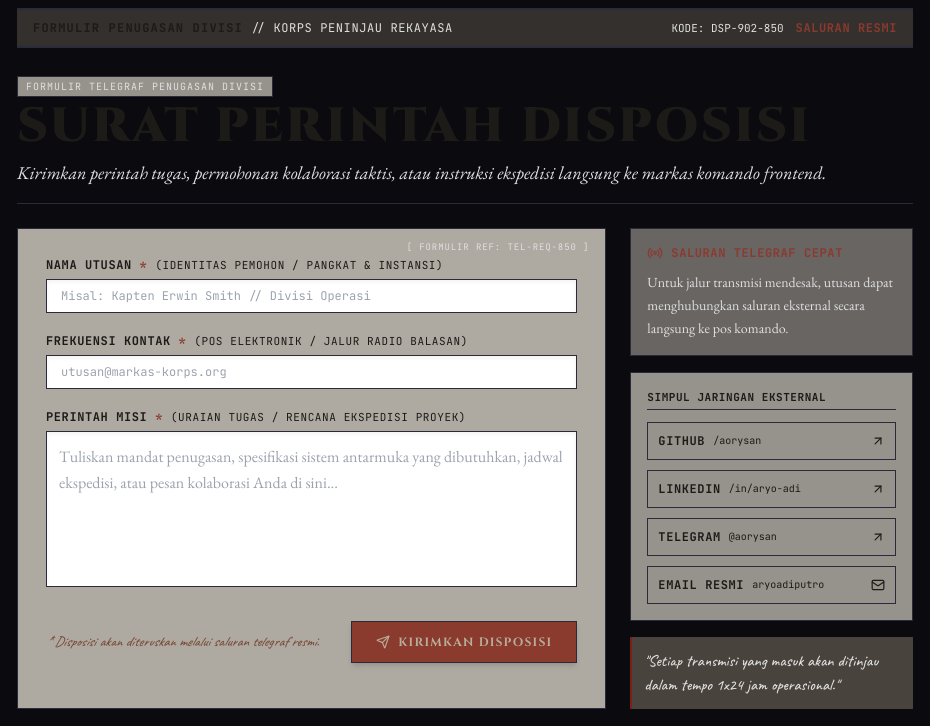
Test: Dossier Kronik & Kontak › DossierKontak (Requisition Dispatch Sheet) › handles reduced motion preferences on form submission
In the field labelled "Nama Utusan * (Identitas Pemohon / Pangkat & Instansi)": coordinates (312, 296) [46, 279, 577, 313], type "Komandan Hange"
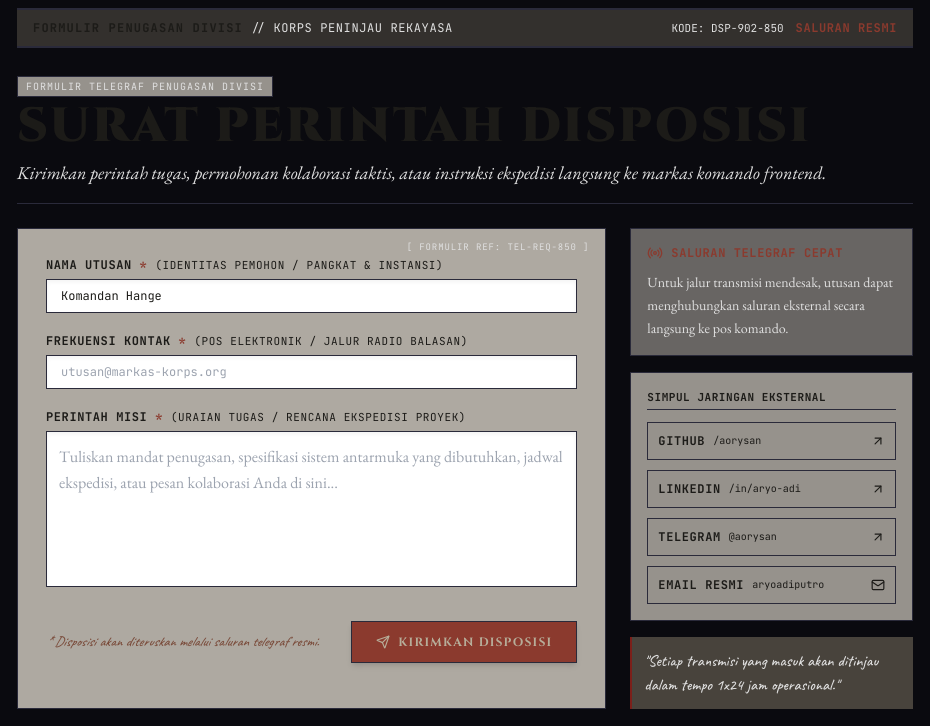
In the field labelled "Frekuensi Kontak * (Pos Elektronik / Jalur Radio Balasan)": coordinates (312, 372) [46, 355, 577, 389], type "hange@surveycorps.org"
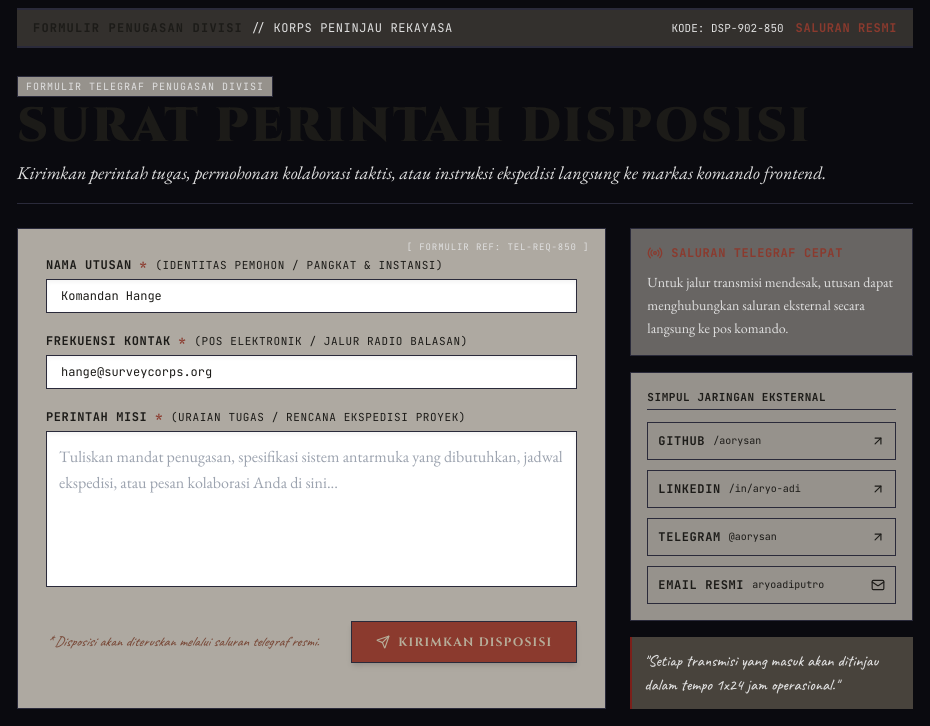
Replace the text in the text box labelled "Perintah Misi * (Uraian Tugas / Rencana Ekspedisi Proyek)" with "Pengujian transmisi taktis.": coordinates (312, 509) [46, 431, 577, 587]
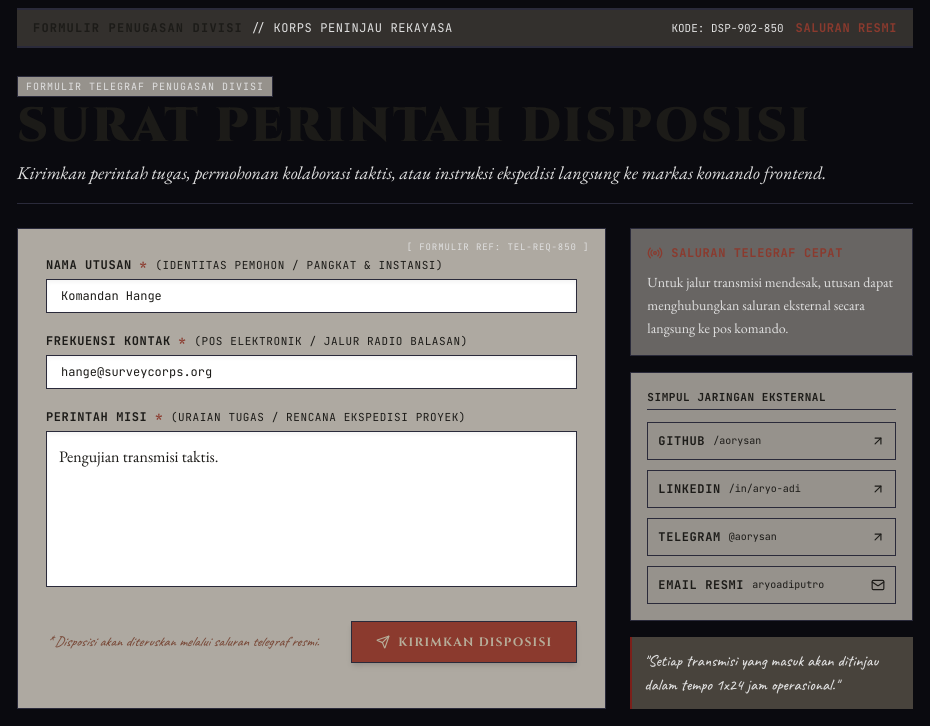
Click the button "KIRIMKAN DISPOSISI": coordinates (464, 642) [351, 621, 577, 663]
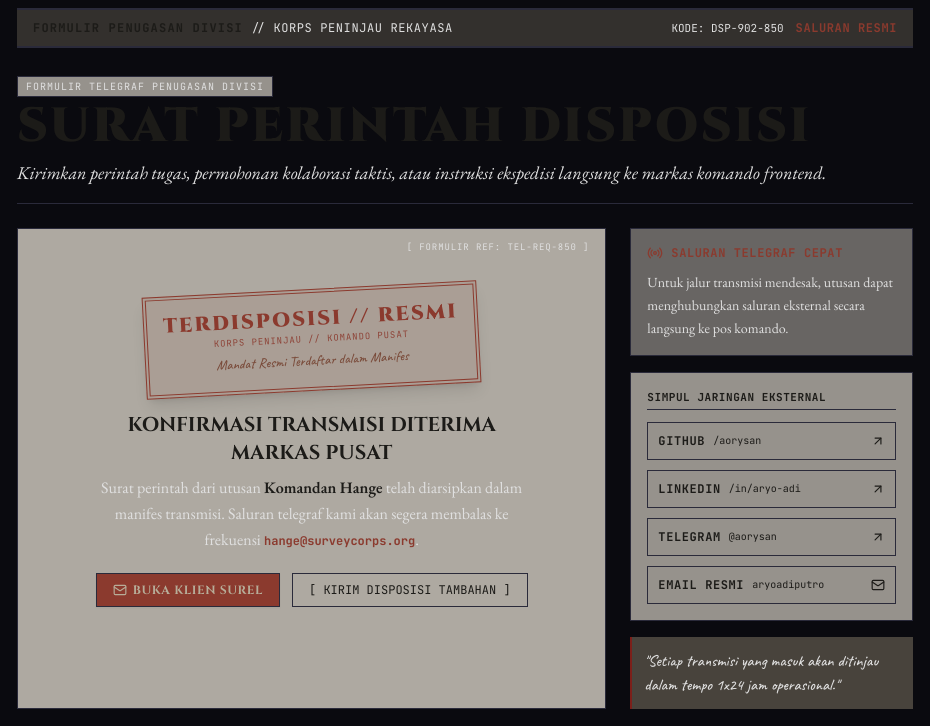
Check: the element with test id "dispatch-confirmation" is shown, box [96, 280, 528, 606]
